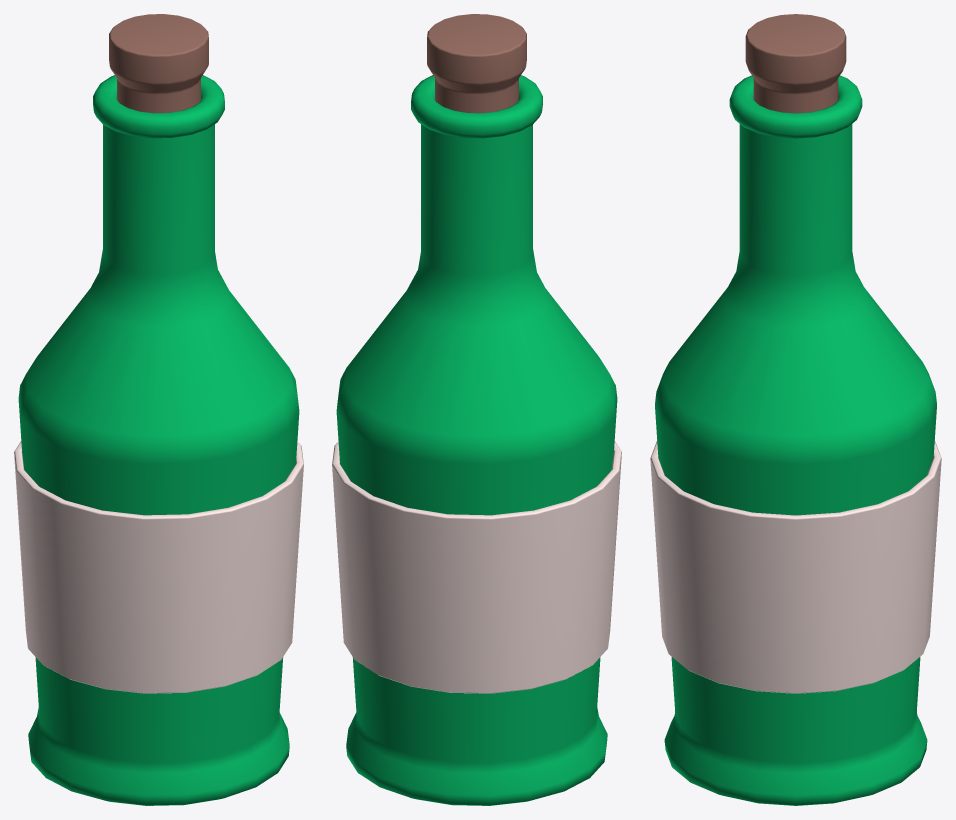
Rendered from water_bottle.glb.
3 views of the same model, side by side, from view 1: azimuth 30°, elevation 25°; view 2: azimuth 150°, elevation 25°; view 3: azimuth 270°, elevation 25° (orthographic).
Parts seen in each view (by area): view 1: Bottle_2; view 2: Bottle_2; view 3: Bottle_2.
Boxes of the visible parts, bbox=[...] form: Bottle_2: bbox=[14, 14, 303, 805]; Bottle_2: bbox=[332, 14, 621, 805]; Bottle_2: bbox=[650, 14, 941, 805].
Bounding box in the file's own units: 0.1461 × 0.3989 × 0.1461.
Materials: 1 (1 with a texture image).
